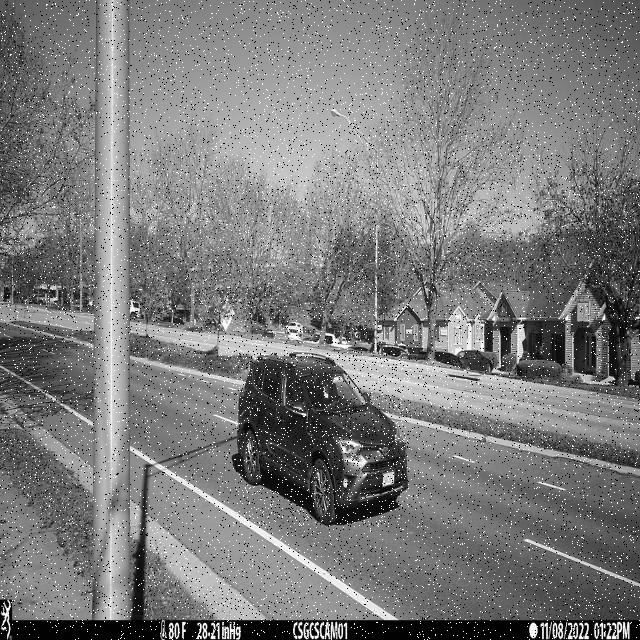SUV: (236, 351, 410, 526)
